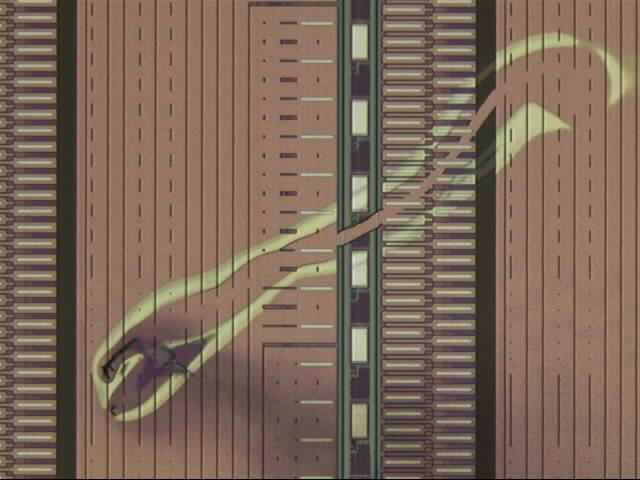BLOCK ETCH: (88, 27, 638, 429)
